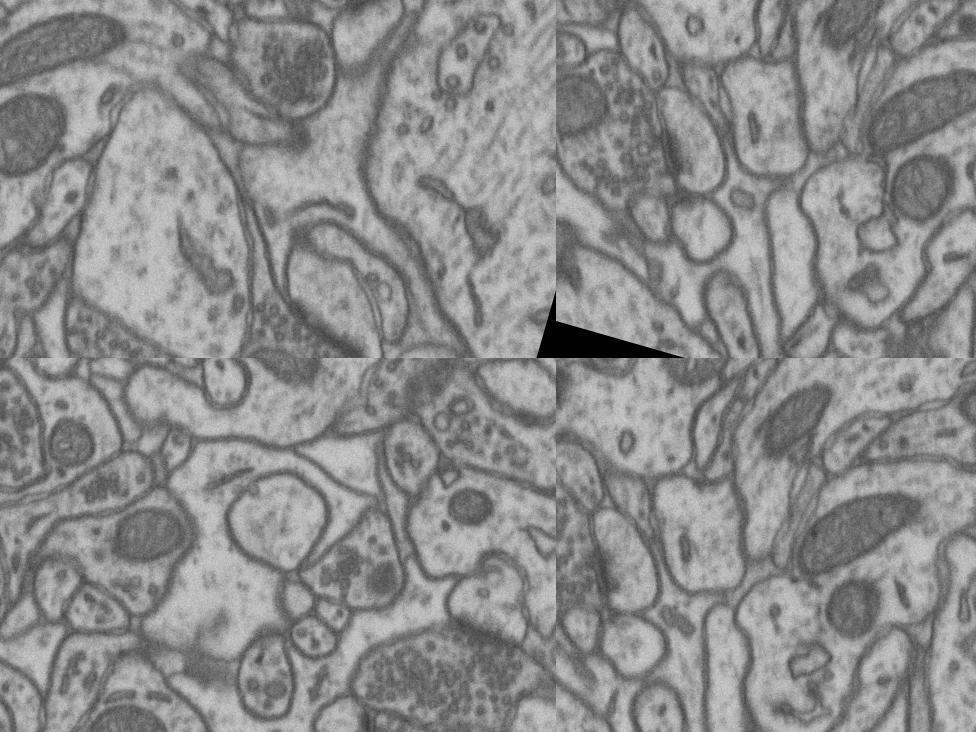mitochondria: (776, 459, 933, 607), (852, 36, 976, 180), (0, 0, 136, 127), (0, 73, 87, 203), (746, 358, 841, 474), (75, 486, 178, 592), (204, 358, 365, 420), (875, 137, 967, 236), (55, 679, 198, 732), (20, 399, 107, 486), (810, 567, 894, 652), (335, 534, 416, 620), (556, 56, 623, 155), (806, 0, 901, 69), (643, 358, 759, 405), (439, 476, 514, 542), (217, 326, 330, 358), (391, 358, 469, 398), (948, 372, 976, 442)
